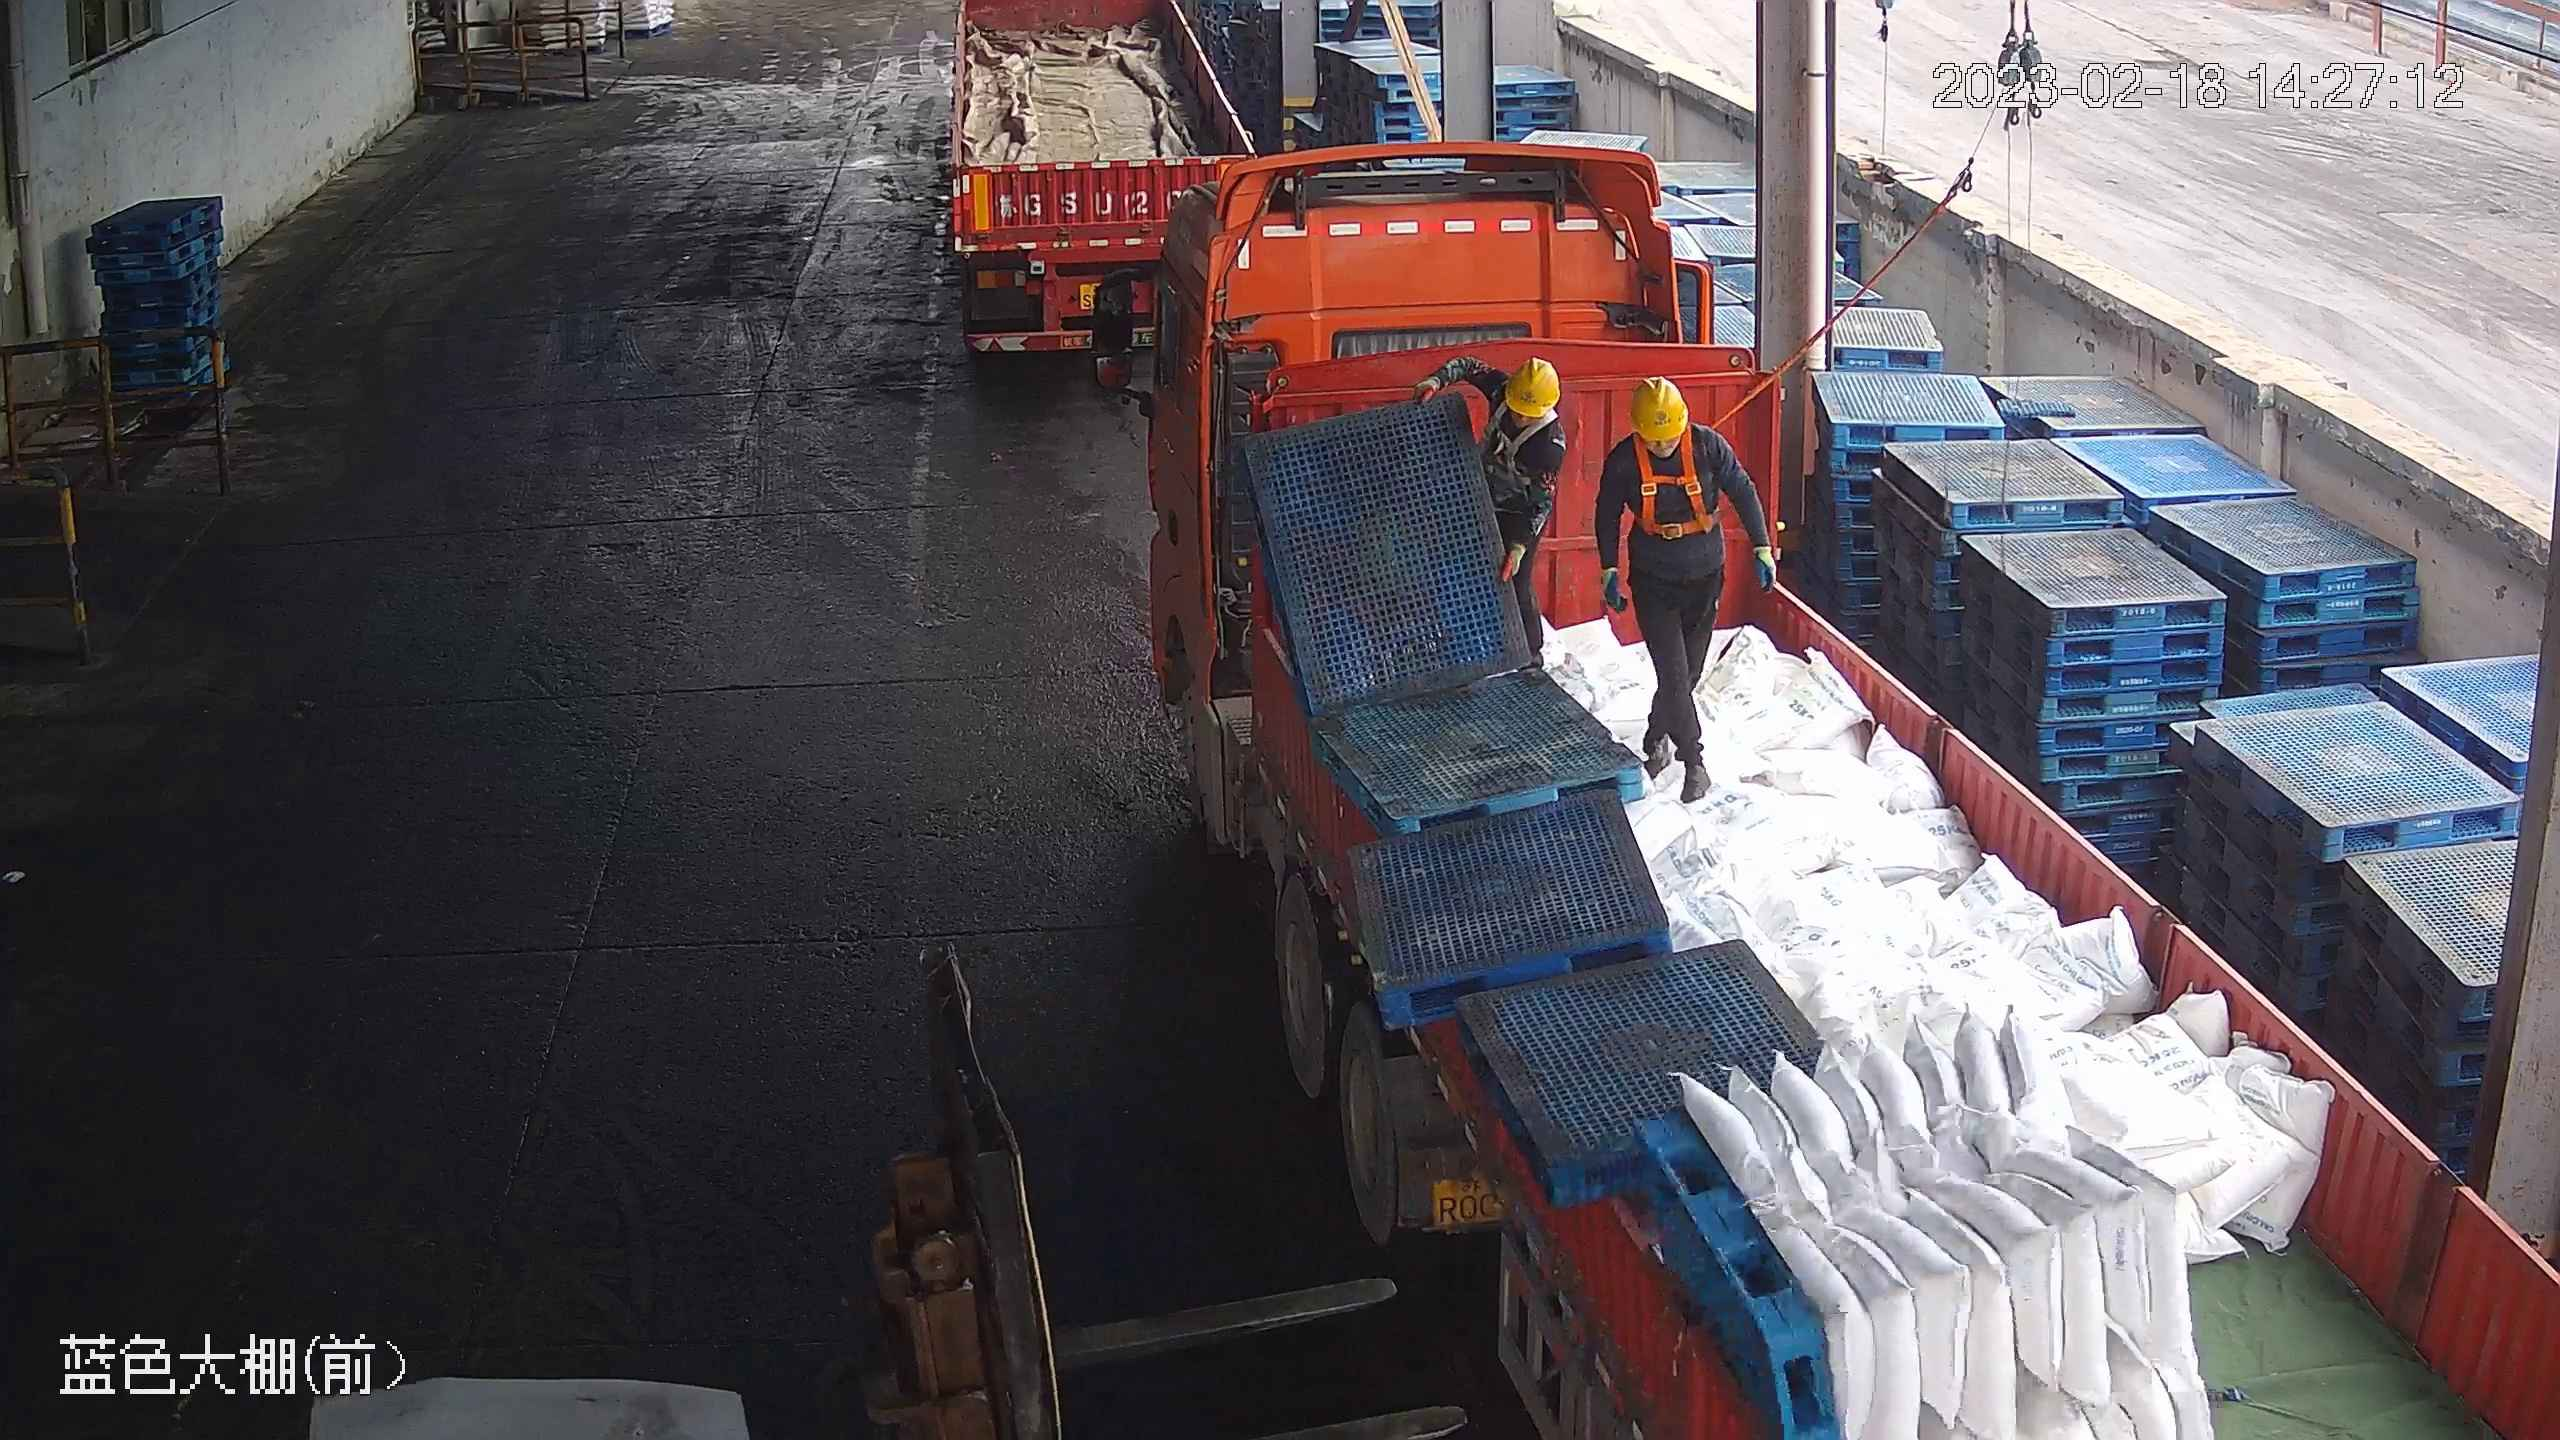belt: (1627, 425, 1717, 535), (1480, 409, 1546, 484)
head: (1603, 372, 1737, 484), (1453, 355, 1565, 430)
helmet: (1627, 372, 1691, 441), (1505, 355, 1562, 417)
people: (1594, 368, 1780, 806), (1429, 360, 1568, 683)
truck: (1114, 139, 2557, 1438), (932, 1, 1269, 370)
